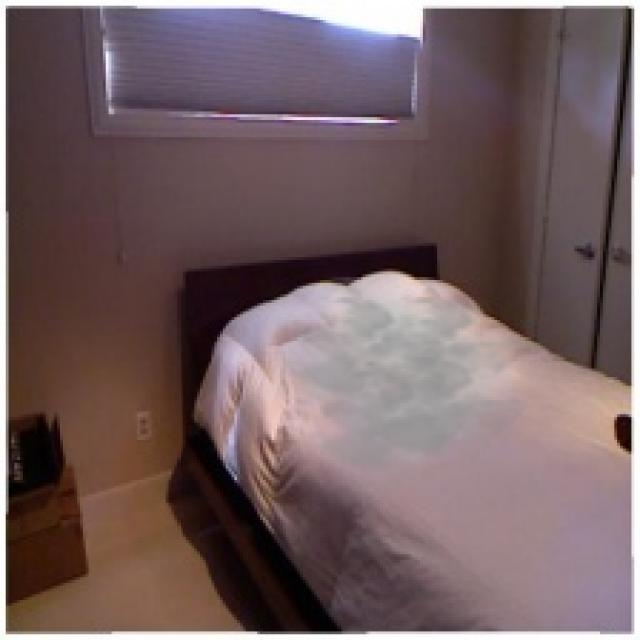smoke: (283, 277, 531, 486)
